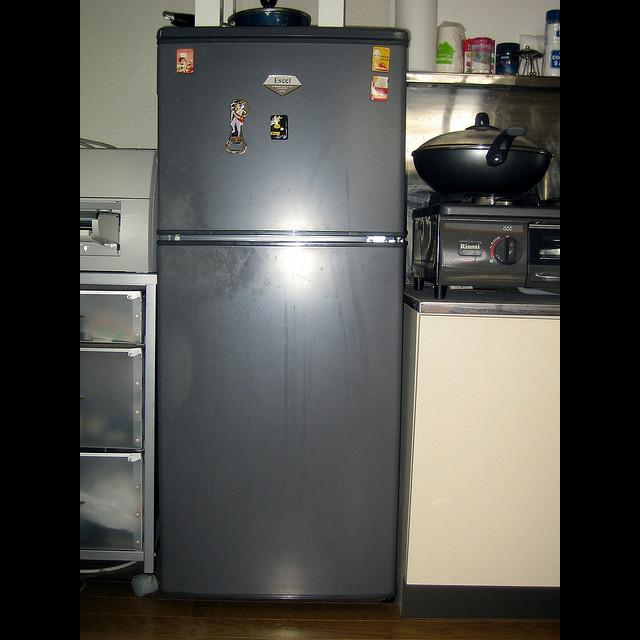Refrigerator: (158, 28, 414, 602)
